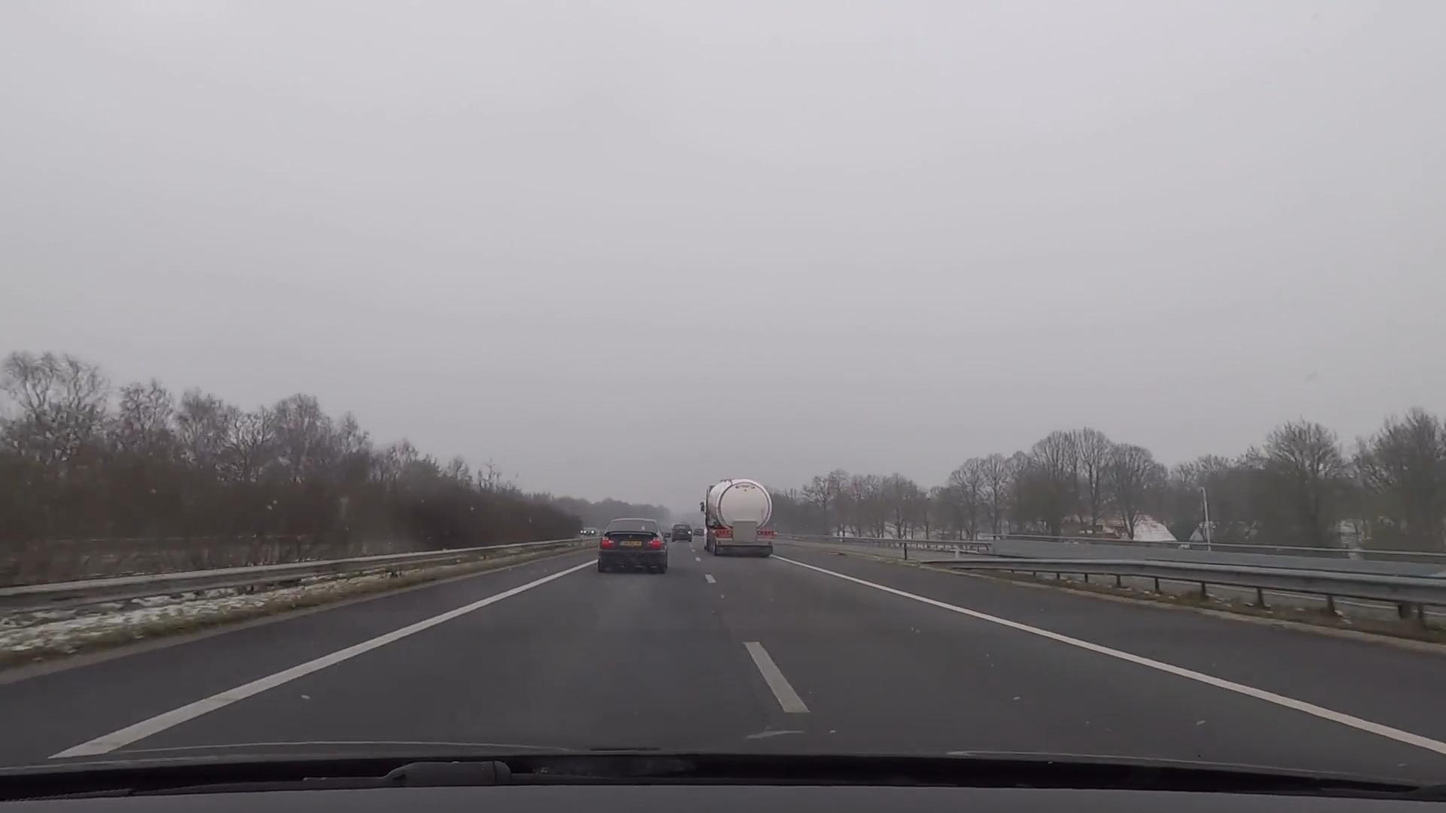Snow: (0, 567, 510, 660), (996, 586, 1446, 641)
dry: (0, 534, 1446, 766)
